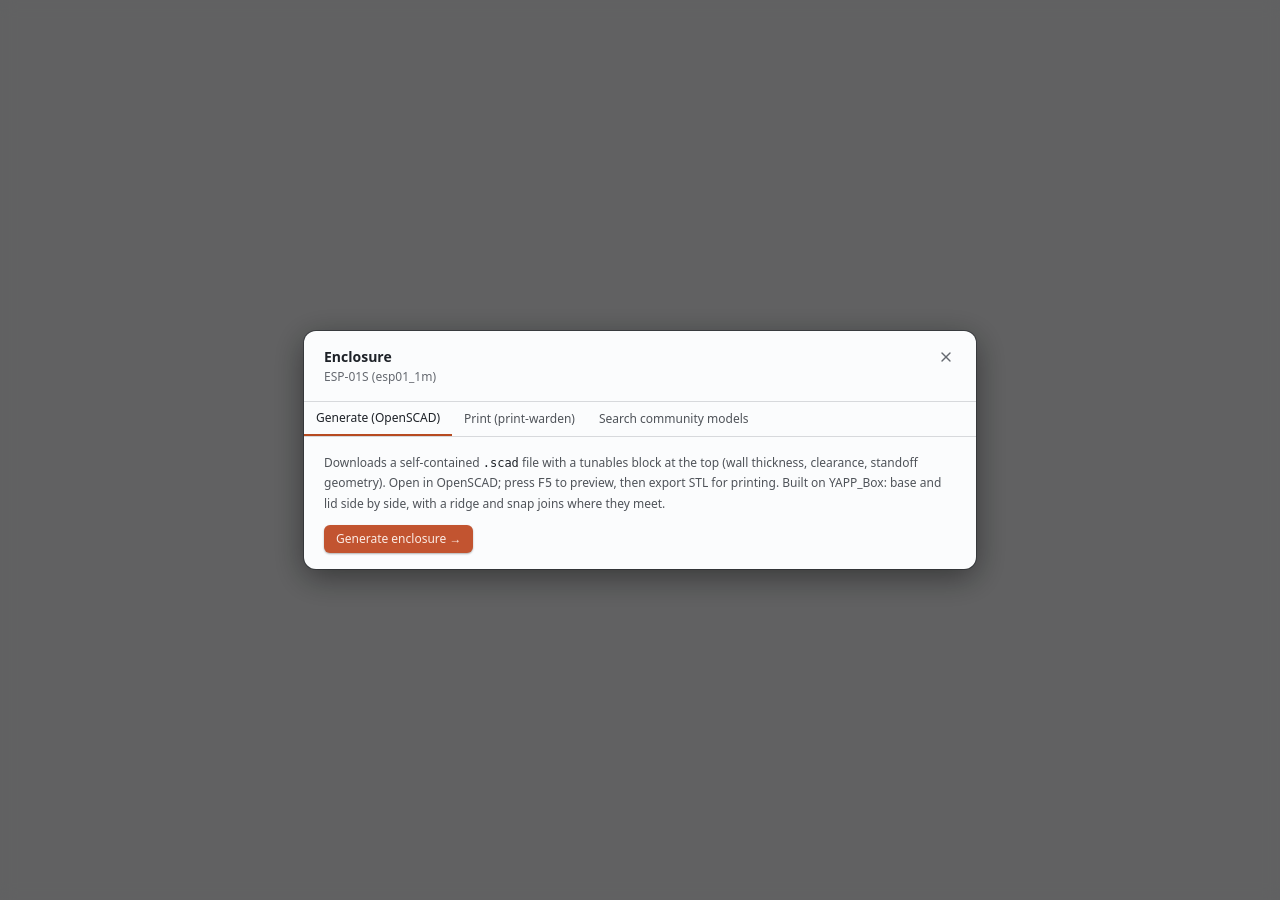
Test case: Generate tab › surfaces a 422 from the server in a rose-toned banner
The image size is (1280, 900).
Click the button "Generate enclosure →": point(399, 539) top-left (324, 525), bottom-right (473, 553)
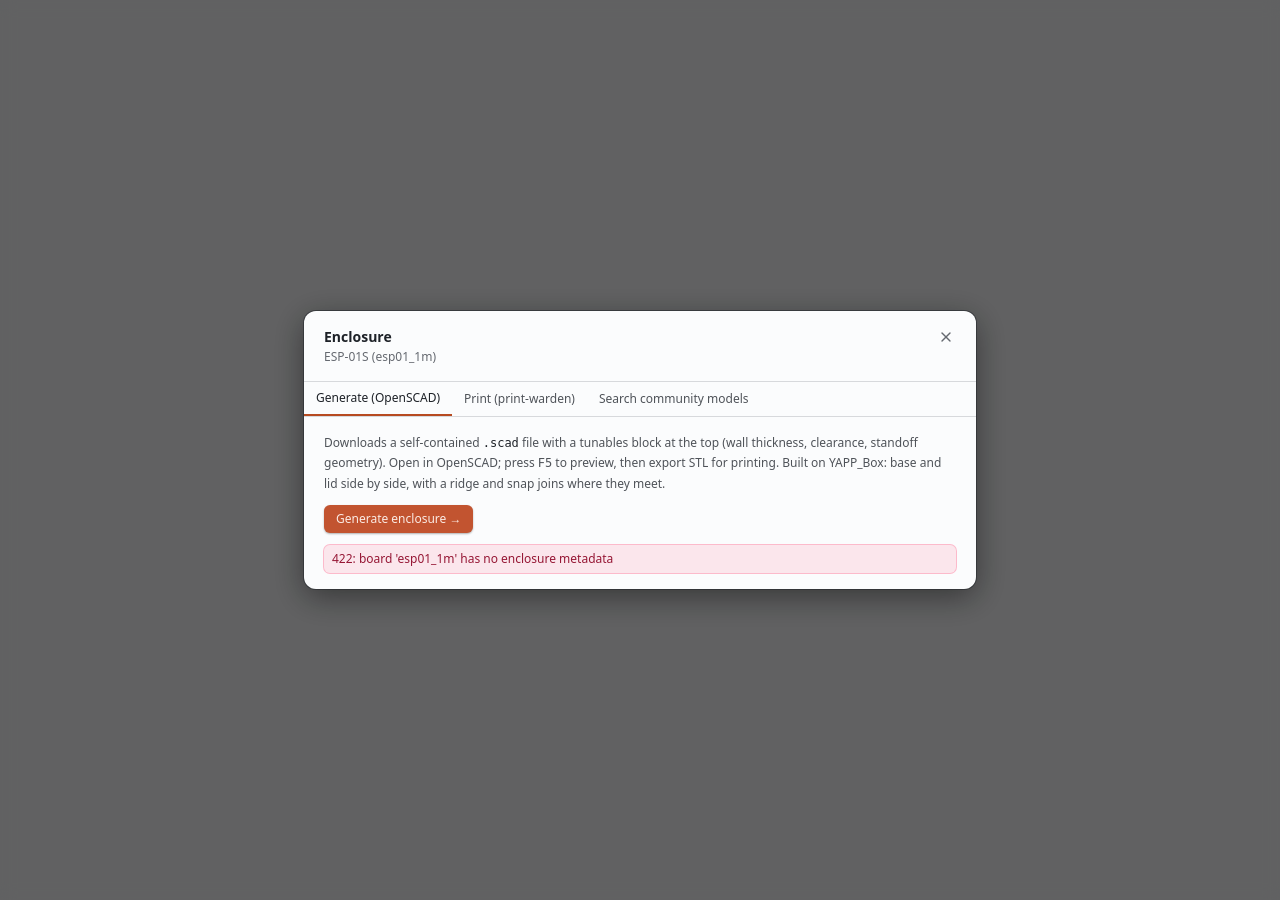
Expected: the text "422: board 'esp01_1m' has no enclosure metadata" is shown, top-left (324, 545), bottom-right (956, 573)
